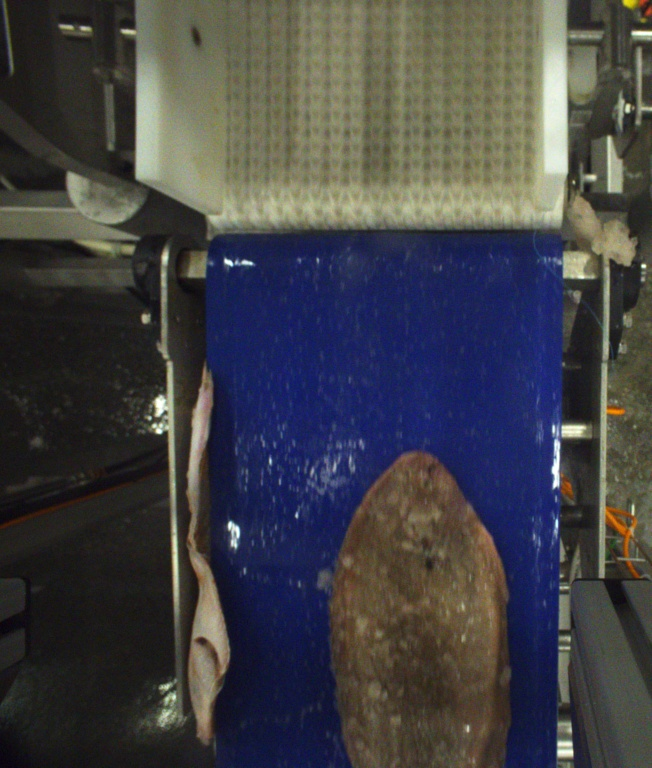SOL: (334, 448, 508, 768)
